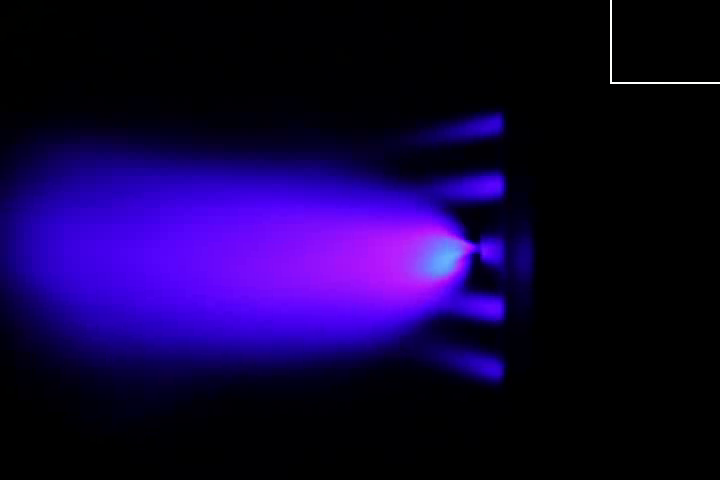burner cap: (476, 233, 505, 264)
pilot flame: (404, 111, 508, 144), (412, 170, 507, 205), (427, 346, 506, 385), (434, 291, 510, 328)
stable: (354, 213, 479, 291)
